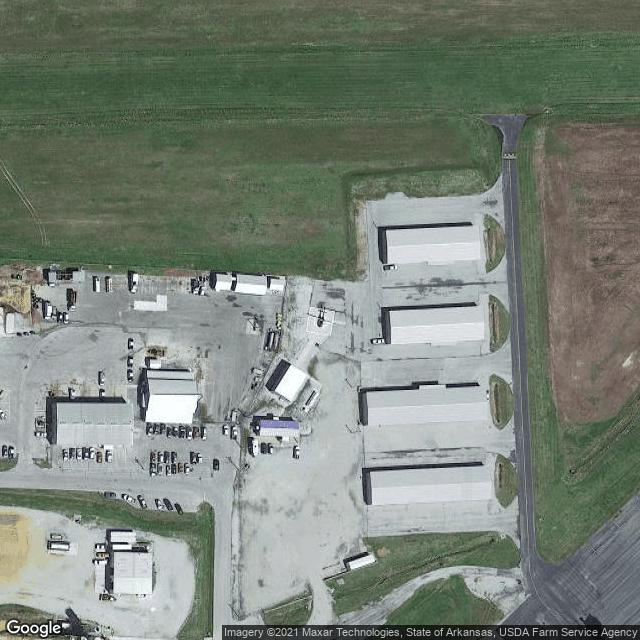Helipad: (307, 301, 336, 336)
